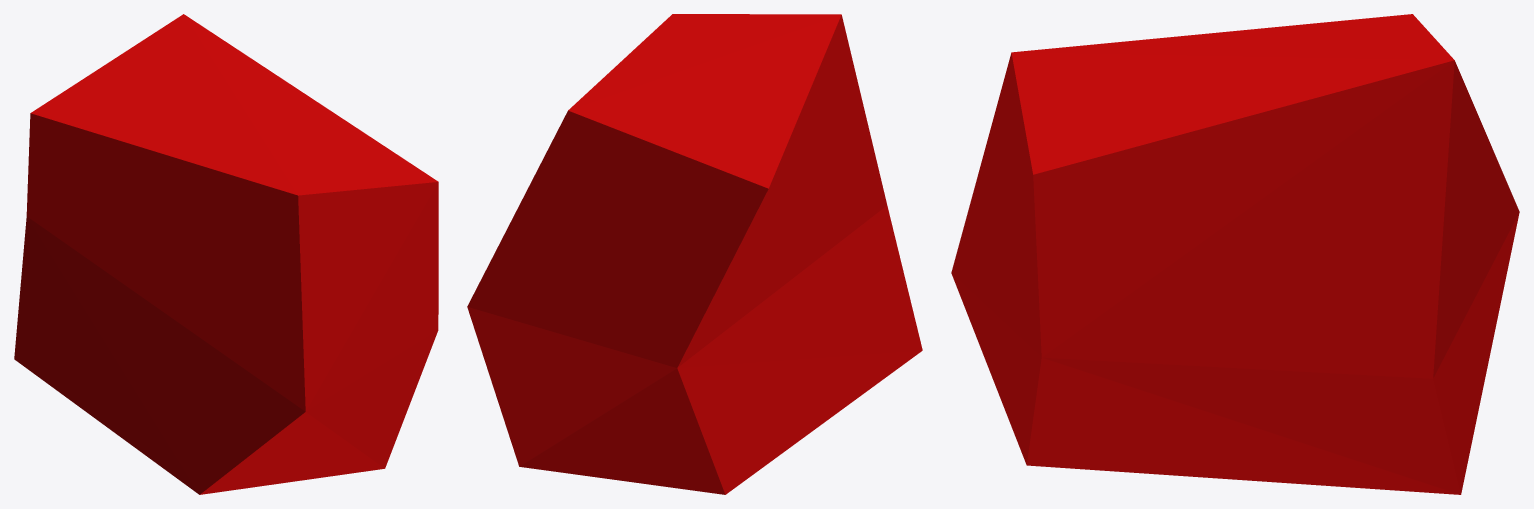
The picture shows the model from 3 angles, left to right: view 1: azimuth 30°, elevation 25°; view 2: azimuth 150°, elevation 25°; view 3: azimuth 270°, elevation 25°; orthographic projection. The views are drawn at different scales.
Parts seen in each view (by area): view 1: Mesh; view 2: Mesh; view 3: Mesh.
Boxes of the visible parts, x1,y1,x2,y2 form: Mesh: (14,14,438,494); Mesh: (467,14,922,494); Mesh: (951,14,1519,494).
Size of the model in its own units: 0.6717 by 0.802 by 1.01.
